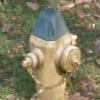Hydrant: (15, 6, 87, 100)
